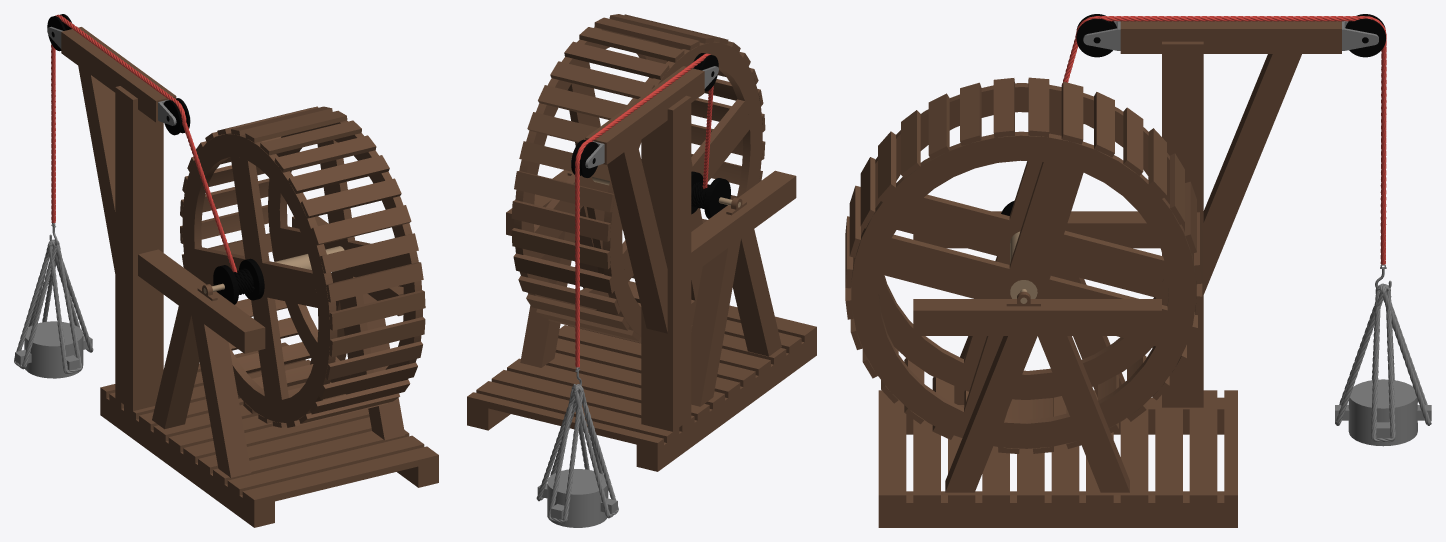
File: Grúa Medieval GLB.glb
3 views of the same model, side by side, from view 1: azimuth 30°, elevation 25°; view 2: azimuth 150°, elevation 25°; view 3: azimuth 270°, elevation 25° (orthographic). The views are drawn at different scales.
Parts seen in each view (by area): view 1: Saliente-Extruir4, Saliente-Extruir1, Obj_Saliente-Extruir1, Cortar-Extruir22, Cortar-Extruir21, MatrizC2, Saliente-Extruir12, Saliente-Extruir6, Saliente-Extruir22, Saliente-Extruir5, Saliente-Extruir23, Saliente-Extruir1_1 (+31 smaller); view 2: Saliente-Extruir4, Saliente-Extruir1, MatrizC2, Obj_Saliente-Extruir1, Saliente-Extruir6, Cortar-Extruir21, Saliente-Extruir12, Saliente-Extruir5, Saliente-Extruir1_1, Cortar-Extruir22, Saliente-Extruir211, Saliente-Extruir21 (+33 smaller); view 3: Cortar-Extruir21, Saliente-Extruir1_1, Cortar-Extruir22, Obj_Saliente-Extruir1, Saliente-Extruir11, Saliente-Extruir4, MatrizC2, Saliente-Extruir6, Saliente-Extruir5, Saliente-Extruir1, Saliente-Extruir211, Saliente-Extruir22 (+25 smaller).
Boxes of the visible parts, box(x1,y1,x2,y2) form: Saliente-Extruir4: box(115, 86, 163, 410); Saliente-Extruir1: box(138, 249, 265, 477); Obj_Saliente-Extruir1: box(182, 133, 337, 422); Cortar-Extruir22: box(194, 157, 317, 399); Cortar-Extruir21: box(268, 120, 422, 394); MatrizC2: box(14, 223, 93, 378); Saliente-Extruir12: box(100, 394, 274, 527); Saliente-Extruir6: box(78, 66, 115, 273); Saliente-Extruir22: box(242, 446, 438, 506); Saliente-Extruir5: box(61, 27, 176, 122); Saliente-Extruir23: box(227, 435, 424, 495); Saliente-Extruir1_1: box(292, 216, 404, 440); Saliente-Extruir4: box(641, 95, 691, 431); Saliente-Extruir1: box(691, 170, 796, 406); MatrizC2: box(536, 367, 618, 527); Obj_Saliente-Extruir1: box(602, 41, 762, 337); Saliente-Extruir6: box(607, 143, 667, 333); Cortar-Extruir21: box(514, 27, 666, 310); Saliente-Extruir12: box(636, 333, 816, 471); Saliente-Extruir5: box(585, 66, 704, 164); Saliente-Extruir1_1: box(506, 170, 598, 367); Cortar-Extruir22: box(622, 99, 749, 300); Saliente-Extruir211: box(476, 381, 679, 442); Saliente-Extruir21: box(467, 392, 663, 449); Cortar-Extruir21: box(851, 131, 1196, 448); Saliente-Extruir1_1: box(913, 299, 1161, 492); Cortar-Extruir22: box(897, 114, 1166, 367); Obj_Saliente-Extruir1: box(853, 83, 1193, 399); Saliente-Extruir11: box(878, 491, 1237, 527); Saliente-Extruir4: box(1162, 41, 1203, 407); MatrizC2: box(1335, 264, 1431, 446); Saliente-Extruir6: box(1203, 54, 1301, 294); Saliente-Extruir5: box(1120, 21, 1341, 53); Saliente-Extruir1: box(913, 211, 1160, 404); Saliente-Extruir211: box(1189, 390, 1217, 502); Saliente-Extruir22: box(878, 390, 906, 502).
Bounding box in the file's own units: 2 × 3.31 × 4.24.
